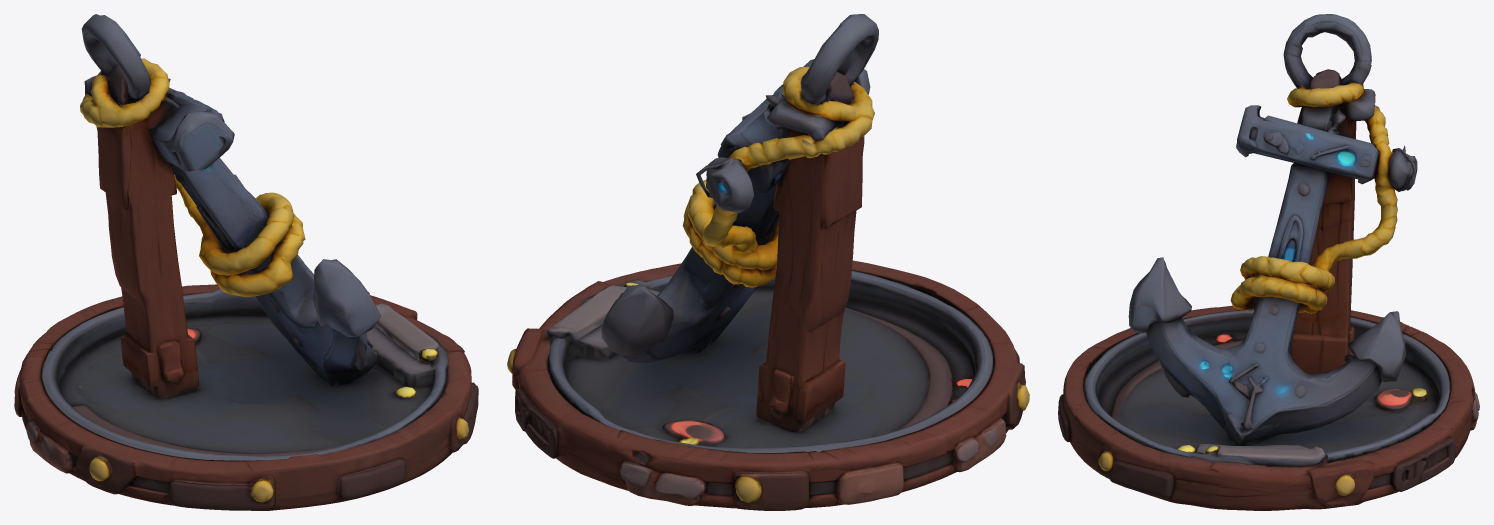
Rendered from anchor.glb.
The picture shows the model from 3 angles, left to right: view 1: azimuth 30°, elevation 25°; view 2: azimuth 150°, elevation 25°; view 3: azimuth 270°, elevation 25°; orthographic projection. The views are drawn at different scales.
Parts seen in each view (by area): view 1: tripo_node_81d04c22-9af4-49c1-adfd-531709928d04; view 2: tripo_node_81d04c22-9af4-49c1-adfd-531709928d04; view 3: tripo_node_81d04c22-9af4-49c1-adfd-531709928d04.
Boxes of the visible parts, left/top/right/bottom form: tripo_node_81d04c22-9af4-49c1-adfd-531709928d04: left=14, top=14, right=478, bottom=510; tripo_node_81d04c22-9af4-49c1-adfd-531709928d04: left=507, top=14, right=1029, bottom=510; tripo_node_81d04c22-9af4-49c1-adfd-531709928d04: left=1058, top=14, right=1479, bottom=510.
Bounding box in the file's own units: 0.9683 × 0.9381 × 0.9801.
Materials: 1 (1 with a texture image).
